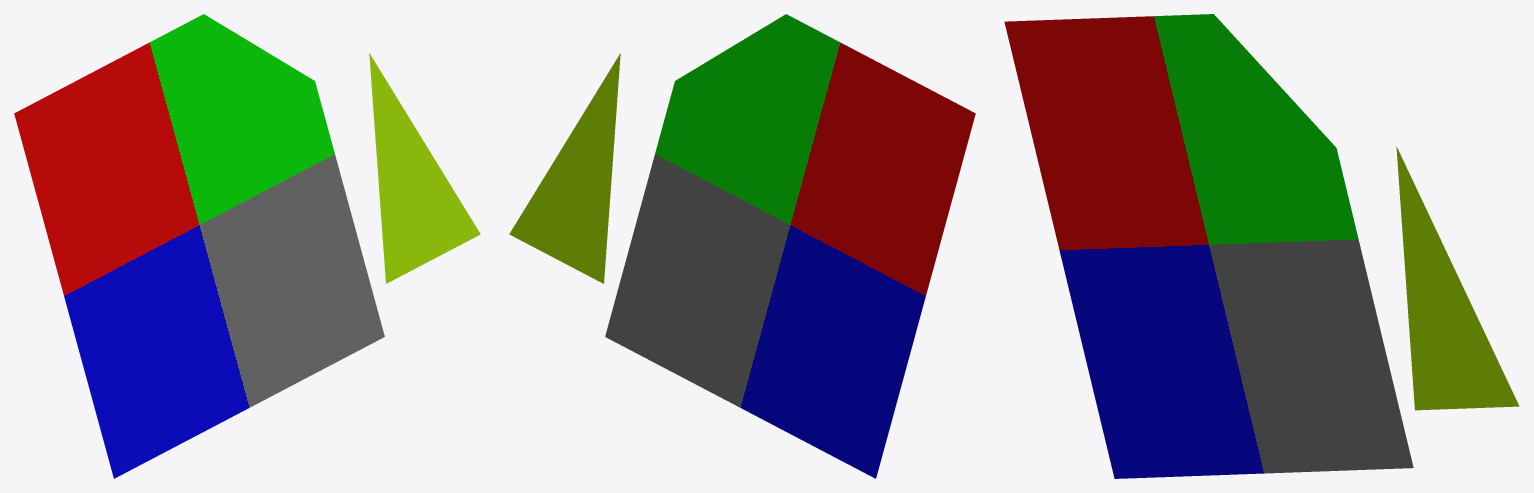
The picture shows the model from 3 angles, left to right: view 1: azimuth 30°, elevation 25°; view 2: azimuth 150°, elevation 25°; view 3: azimuth 330°, elevation 25°; orthographic projection. The views are drawn at different scales.
Visible parts, largest first — view 1: rotated nonuniform child; view 2: rotated nonuniform child; view 3: rotated nonuniform child.
Boxes of the visible parts, bbox=[...] form: rotated nonuniform child: bbox=[14, 14, 480, 478]; rotated nonuniform child: bbox=[509, 14, 975, 478]; rotated nonuniform child: bbox=[1004, 14, 1519, 478].
Size of the model in its own units: 2.66 by 2.41 by 0.
Materials: 2 (2 with a texture image).
